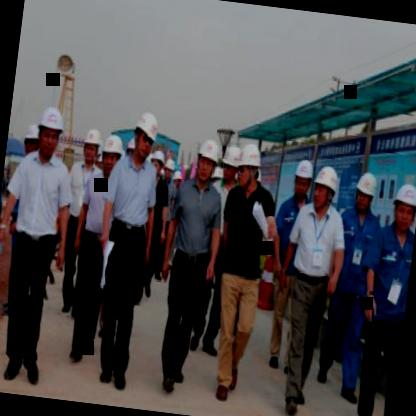helmet: (31, 100, 69, 158), (127, 108, 160, 164), (192, 129, 223, 188), (231, 142, 264, 193), (387, 177, 416, 233), (310, 162, 340, 212), (350, 167, 380, 215), (98, 126, 126, 176), (78, 120, 104, 168), (290, 156, 316, 201), (18, 119, 41, 165), (219, 138, 240, 186), (148, 146, 165, 176), (160, 154, 175, 183)
